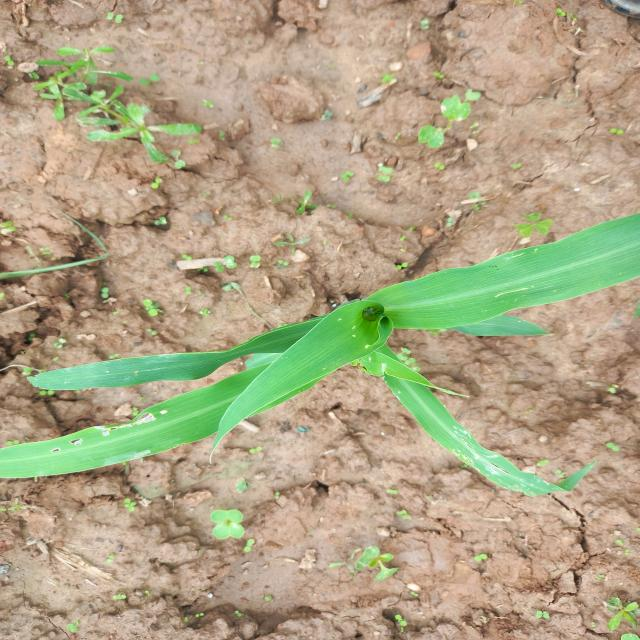maize: (0, 227, 640, 479)
weed: (0, 23, 221, 158), (398, 76, 496, 158), (74, 275, 188, 326), (584, 585, 640, 640), (206, 499, 257, 555), (198, 238, 271, 276), (327, 550, 422, 576), (514, 213, 561, 250), (294, 186, 328, 224), (354, 167, 412, 187), (110, 494, 156, 509)
